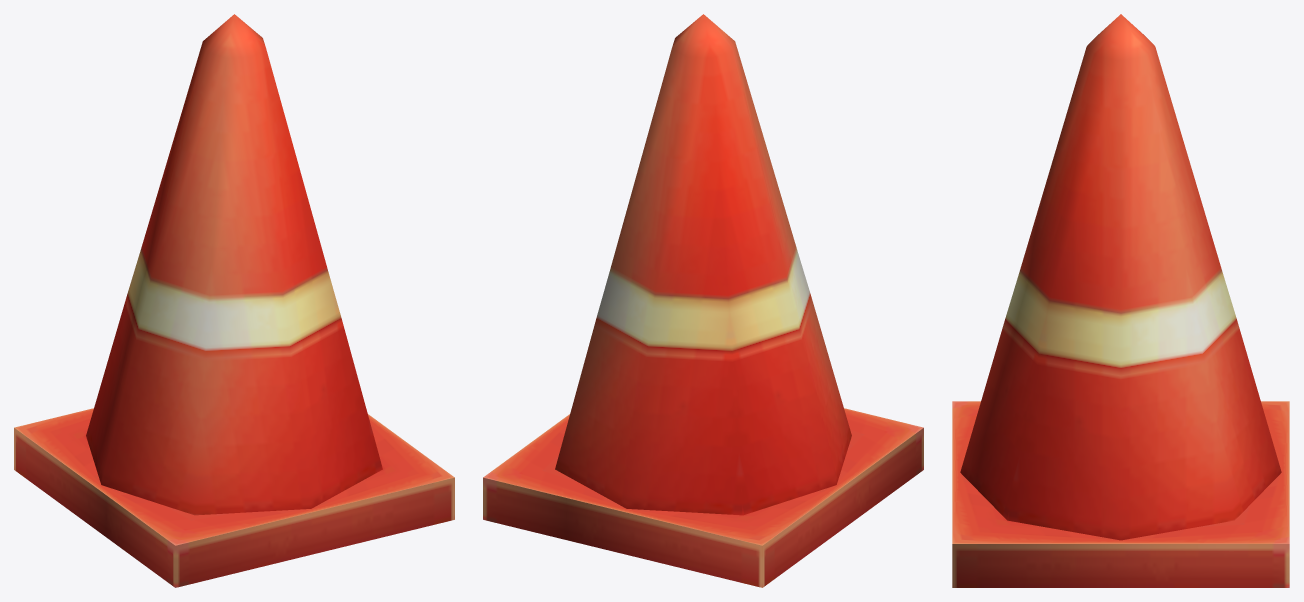
Rendered from my_autumnsports_01_colorcone_01.glb.
3 views of the same model, side by side, from view 1: azimuth 30°, elevation 25°; view 2: azimuth 150°, elevation 25°; view 3: azimuth 270°, elevation 25° (orthographic). The views are drawn at different scales.
Visible parts, largest first — view 1: my_autumnsports_01_colorcone_01; view 2: my_autumnsports_01_colorcone_01; view 3: my_autumnsports_01_colorcone_01.
Part boxes in pixels (x1,y1,x2,y2): my_autumnsports_01_colorcone_01: [14, 14, 454, 587]; my_autumnsports_01_colorcone_01: [483, 14, 923, 587]; my_autumnsports_01_colorcone_01: [952, 14, 1289, 587].
Size of the model in its own units: 0.00203 by 0.00333 by 0.00203.
1 material, 1 textured.
